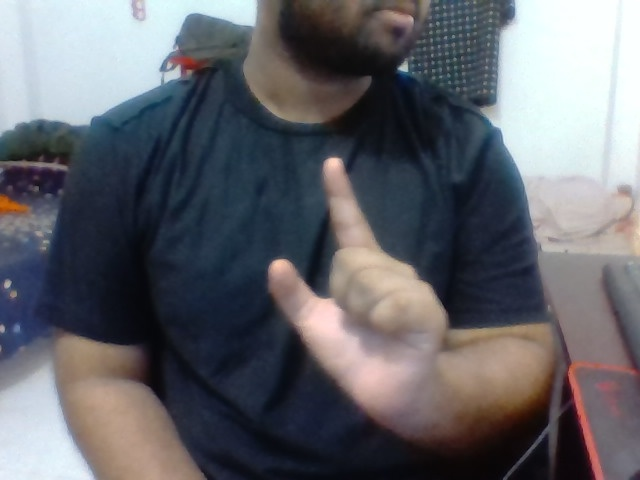J: (251, 147, 459, 402)
